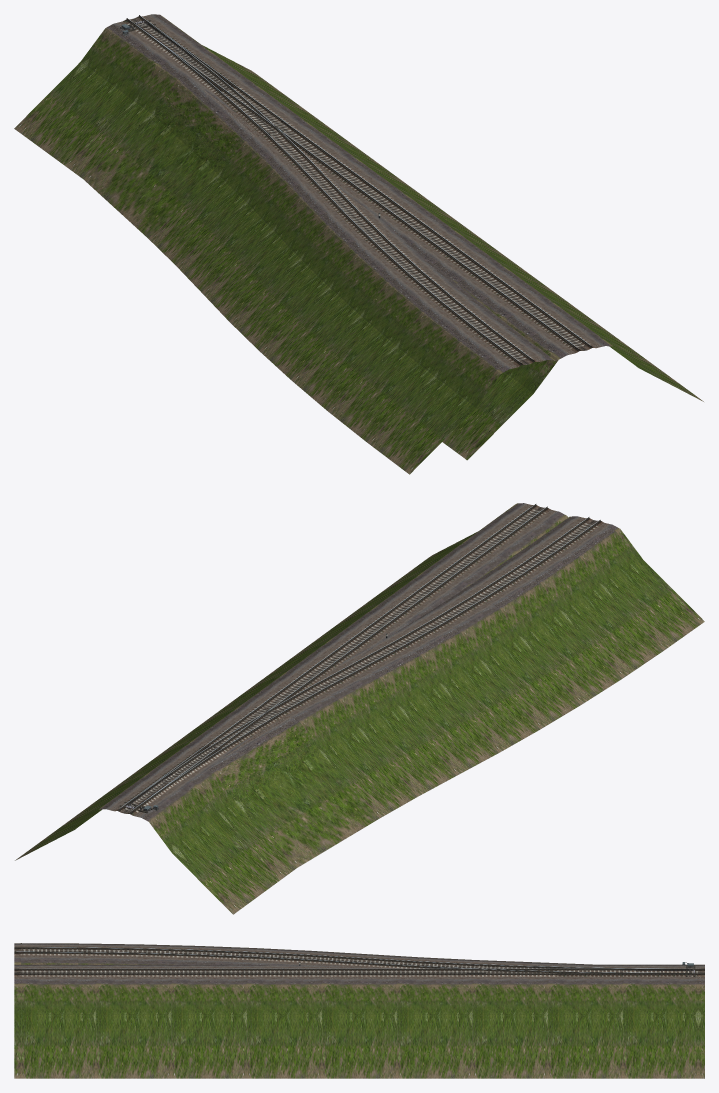
Rendered from tracks_1track2-1.gltf.
3 renders of one model, top to bottom at view 1: azimuth 30°, elevation 25°; view 2: azimuth 150°, elevation 25°; view 3: azimuth 270°, elevation 25°, orthographic. The views are drawn at different scales.
Visible parts, largest first — view 1: tracks_1track2-1; view 2: tracks_1track2-1; view 3: tracks_1track2-1.
Boxes of the visible parts, x1=… form: tracks_1track2-1: x1=14, y1=14, x2=703, y2=474; tracks_1track2-1: x1=15, y1=503, x2=704, y2=914; tracks_1track2-1: x1=14, y1=943, x2=704, y2=1078.
Size of the model in its own units: 38.4 by 10.63 by 102.
1 material, 1 textured.
